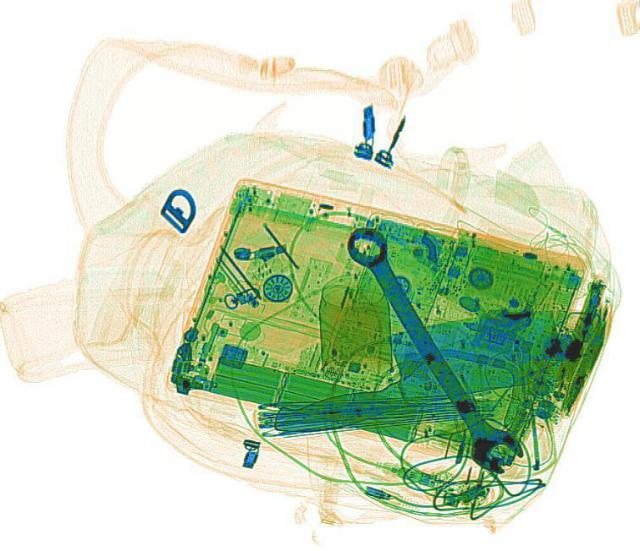Knife: (251, 299, 575, 439)
Wrench: (334, 220, 526, 477)
